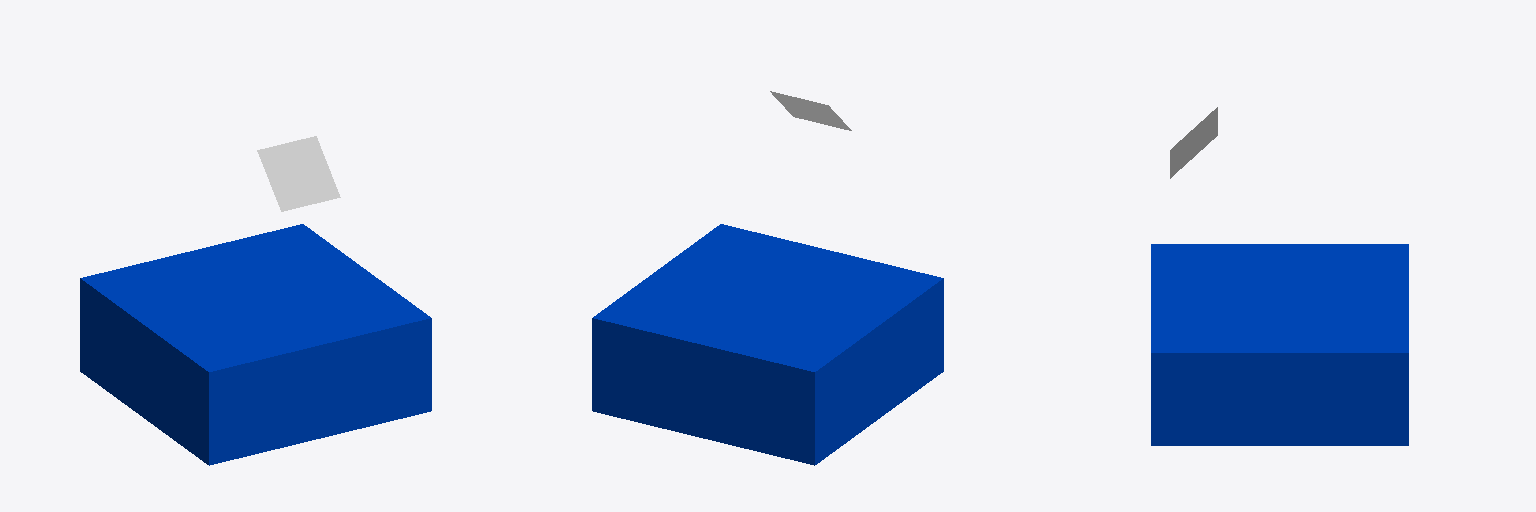
Rendered from participating_media.obj.
3 renders of one model, left to right at view 1: azimuth 30°, elevation 25°; view 2: azimuth 150°, elevation 25°; view 3: azimuth 270°, elevation 25°, orthographic.
Parts seen in each view (by area): view 1: Cube.001_Cube.002, Plane.001; view 2: Cube.001_Cube.002, Plane.001; view 3: Cube.001_Cube.002, Plane.001.
Part boxes in pixels (x1,y1,x2,y2): Cube.001_Cube.002: (80, 224, 431, 465); Plane.001: (257, 136, 340, 211); Cube.001_Cube.002: (592, 224, 943, 465); Plane.001: (770, 91, 851, 130); Cube.001_Cube.002: (1151, 244, 1408, 445); Plane.001: (1170, 107, 1217, 178).
Bounding box in the file's own units: 15 × 17.41 × 15.